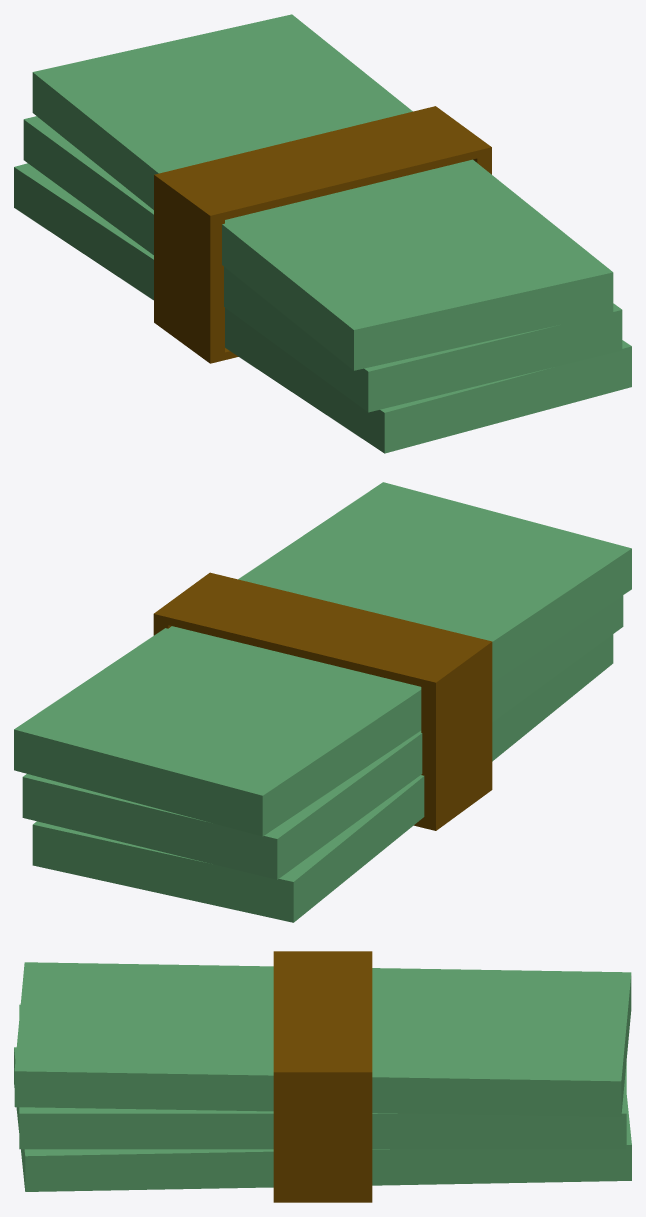
The model's file is bucks.fbx.
3 views of the same model, one above another, from view 1: azimuth 30°, elevation 25°; view 2: azimuth 150°, elevation 25°; view 3: azimuth 270°, elevation 25° (orthographic). The views are drawn at different scales.
Visible parts, largest first — view 1: pCube7; view 2: pCube7; view 3: pCube7.
Part boxes in pixels (x1,y1,x2,y2): pCube7: (14, 14, 631, 453); pCube7: (14, 482, 631, 922); pCube7: (14, 951, 631, 1202).
Size of the model in its own units: 2.89 by 1.45 by 6.25.
